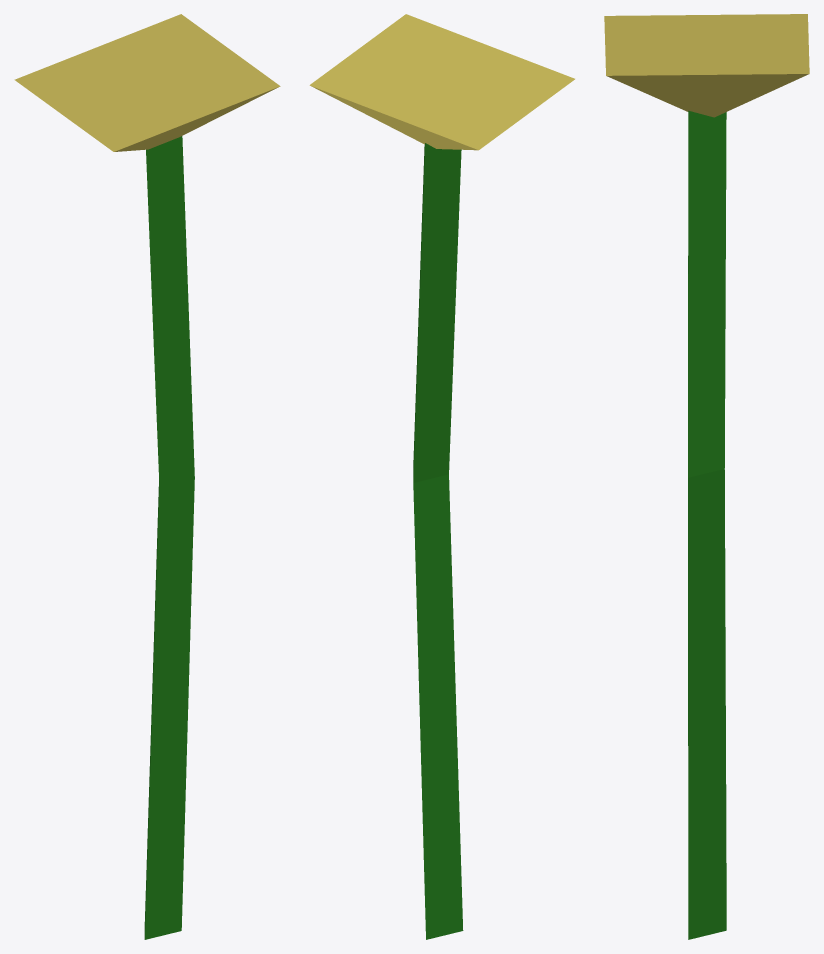
Rendered from Flower_dandelion_vc.fbx.
The picture shows the model from 3 angles, left to right: view 1: azimuth 30°, elevation 25°; view 2: azimuth 150°, elevation 25°; view 3: azimuth 270°, elevation 25°; orthographic projection. The views are drawn at different scales.
Parts seen in each view (by area): view 1: Flower_dandelion_vc; view 2: Flower_dandelion_vc; view 3: Flower_dandelion_vc.
Part boxes in pixels (box(x1,y1,x2,y2)): Flower_dandelion_vc: box(14, 14, 280, 939); Flower_dandelion_vc: box(309, 14, 574, 939); Flower_dandelion_vc: box(604, 14, 809, 939).
Bounding box in the file's own units: 2.96 × 14.36 × 2.98.
